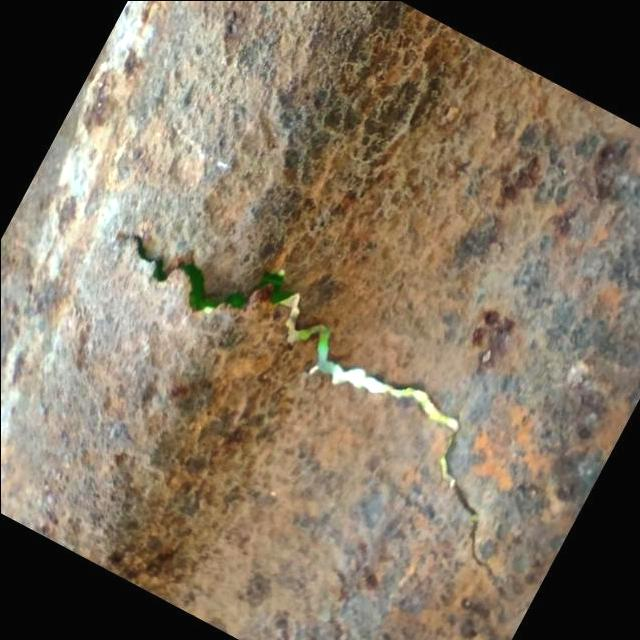defect: (123, 230, 511, 599)
